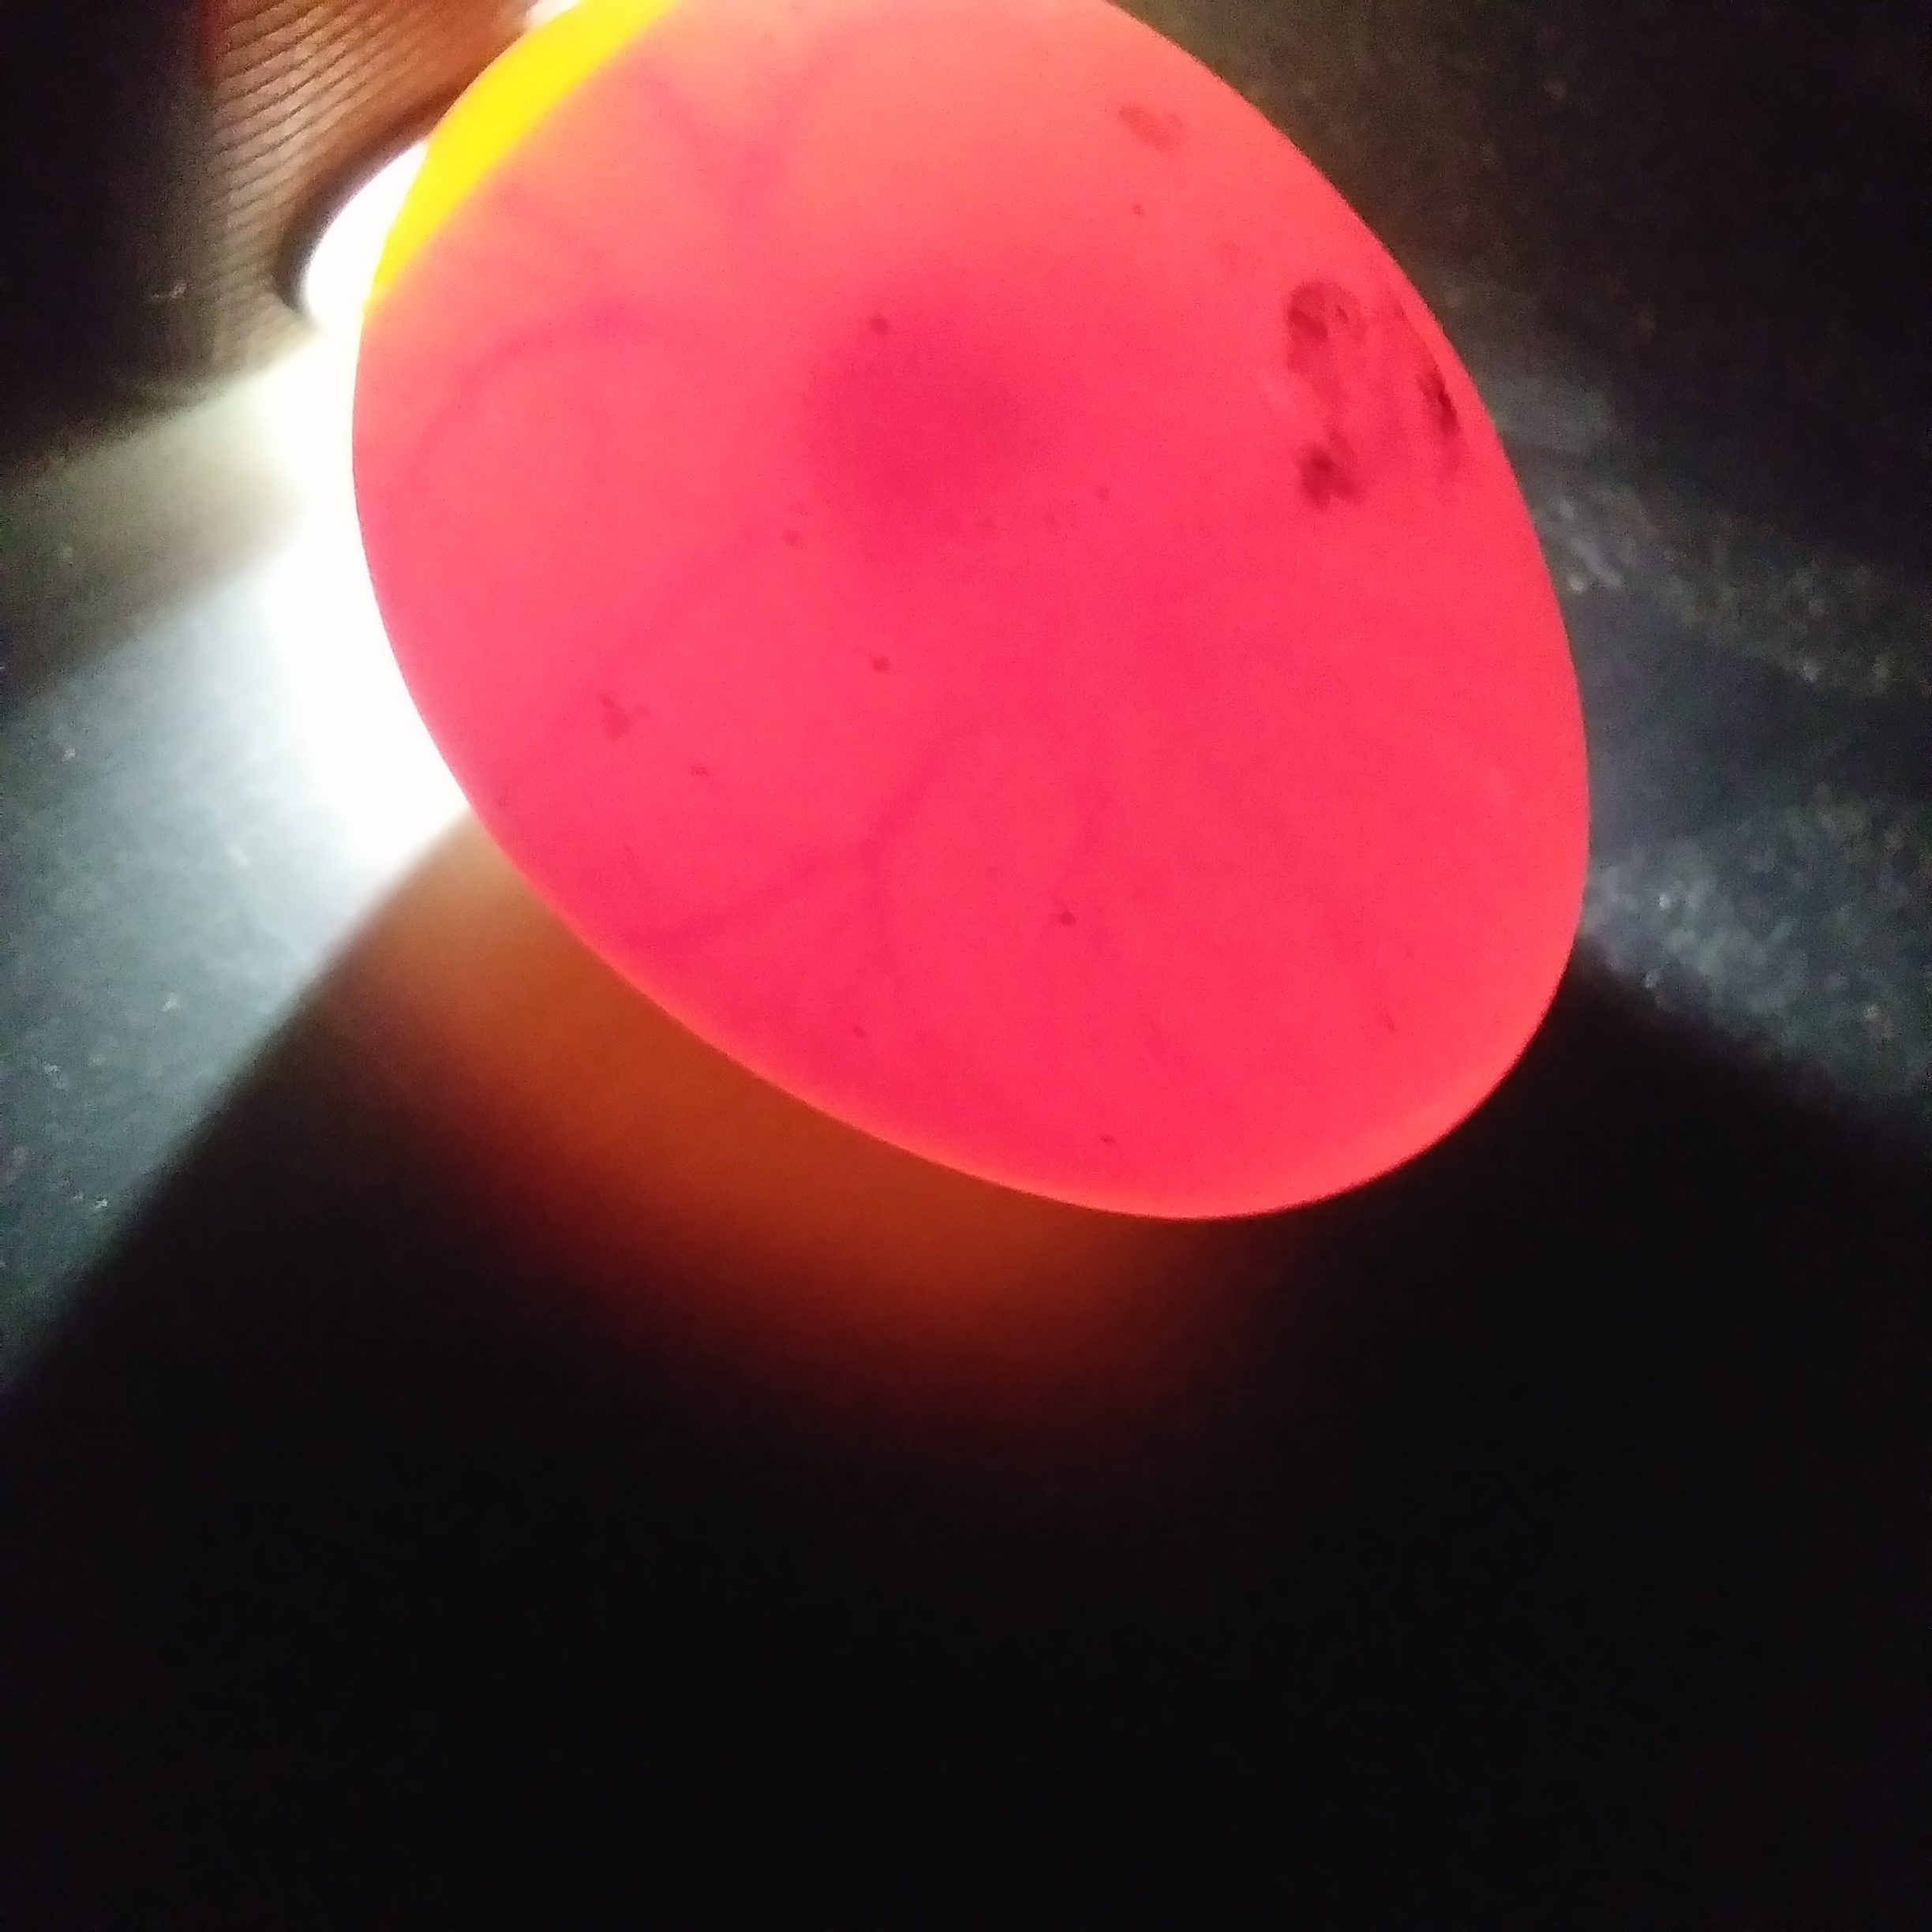bloodcell: (741, 602, 1442, 1010), (497, 274, 709, 630), (602, 99, 996, 244)
embryo: (778, 301, 1065, 518)
